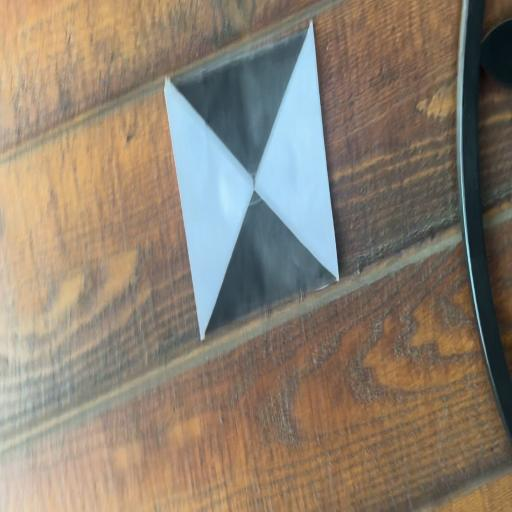target: (164, 24, 339, 341)
